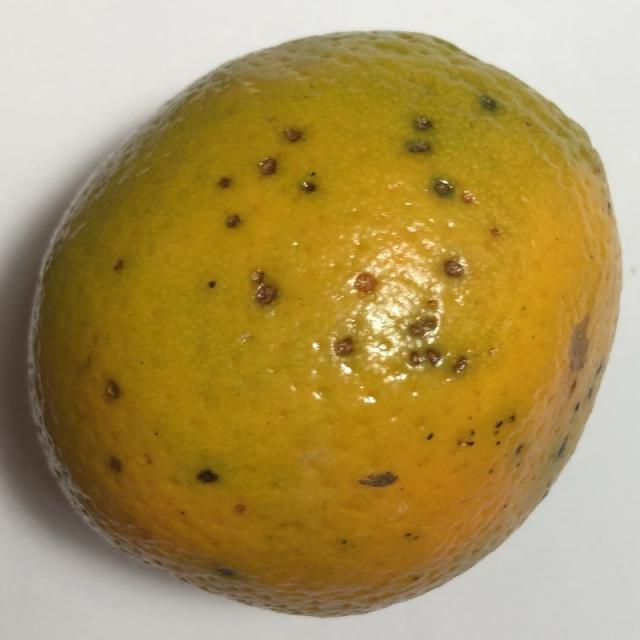black spot: (12, 22, 629, 626)
